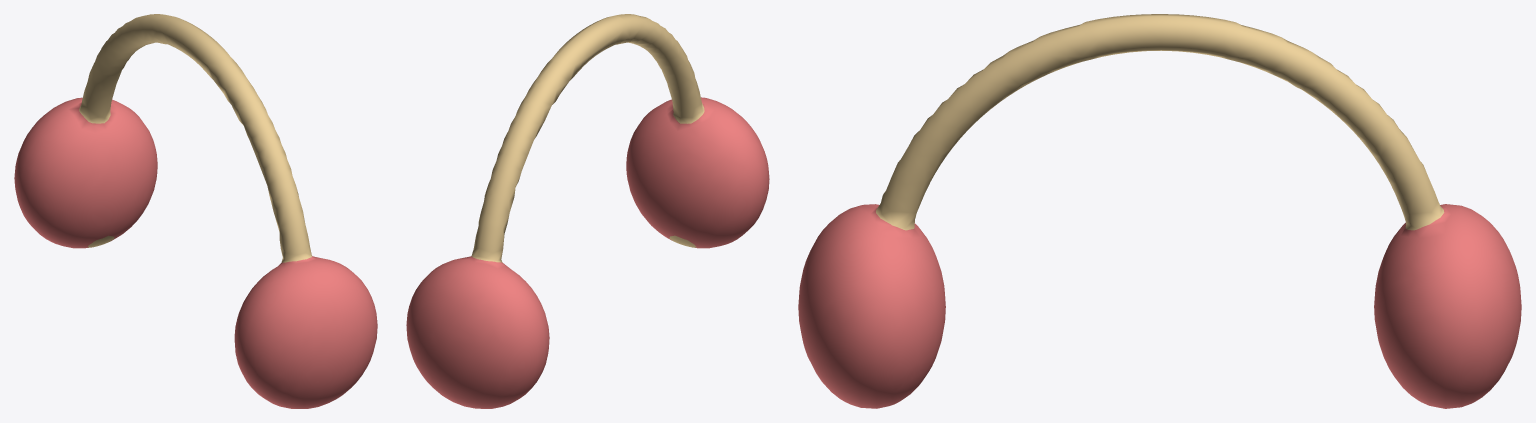
The model's file is acc_earmuffs.glb.
The picture shows the model from 3 angles, left to right: view 1: azimuth 30°, elevation 25°; view 2: azimuth 150°, elevation 25°; view 3: azimuth 270°, elevation 25°; orthographic projection. The views are drawn at different scales.
Parts seen in each view (by area): view 1: body; view 2: body; view 3: body.
Boxes of the visible parts, box(x1,y1,x2,y2) form: body: box(14, 14, 377, 408); body: box(406, 14, 769, 408); body: box(798, 14, 1521, 408).
Bounding box in the file's own units: 0.2698 × 0.5754 × 0.9799.
